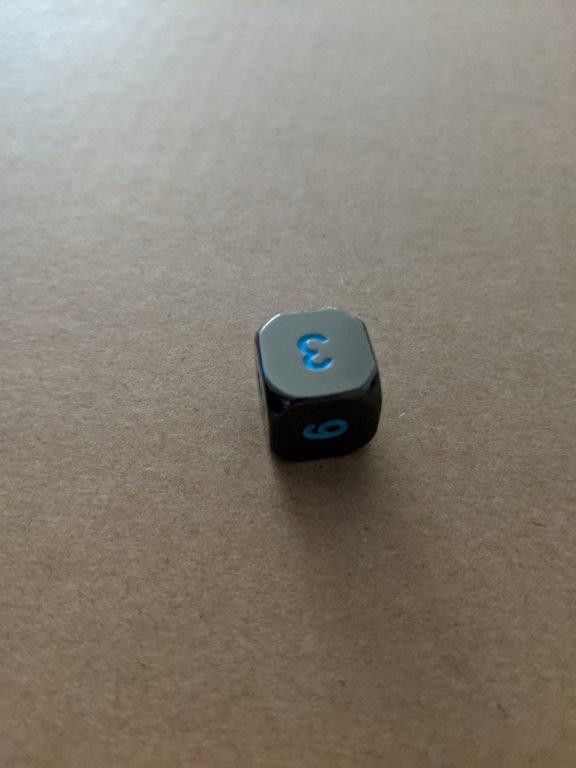d6-3: (253, 305, 384, 464)
